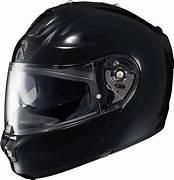Helmet: (1, 0, 174, 178)
